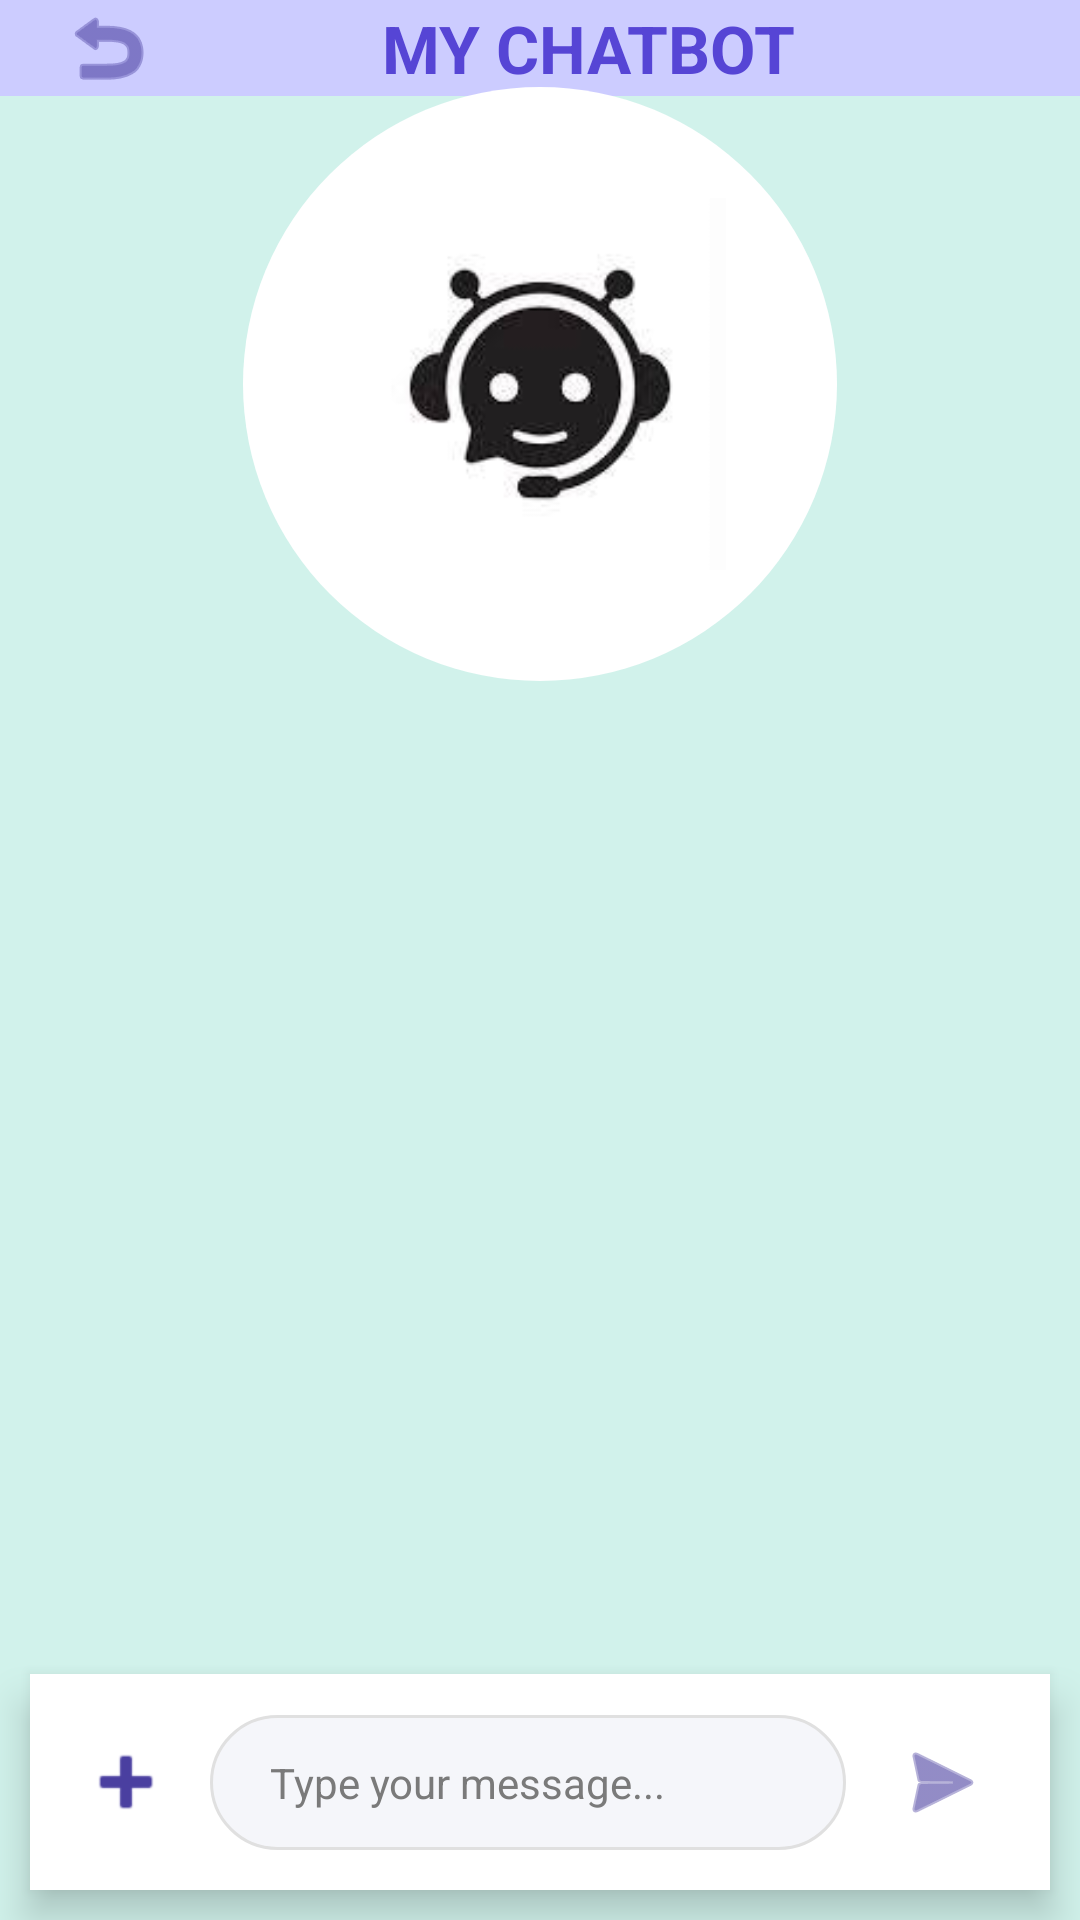

Screen size 1080*1920. Icon name, then its box in pixels as (x1, y1, x2, y2):
add: (99, 1755, 153, 1809)
revert: (75, 18, 144, 80)
send: (912, 1752, 974, 1813)
